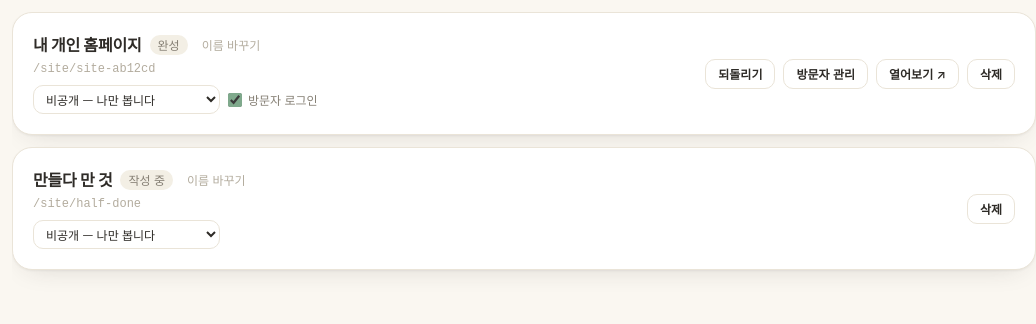
[P5-3] ProjectList — 공개범위 바꾸기 › 실패하면 원래 값으로 되돌리고 오류를 알린다
Select "누구나 봅니다 (검색에도 노출)" in the dropdown named "공개범위" next to "방문자 로그인" at x=126, y=100, box x1=33 y1=85 x2=220 y2=114
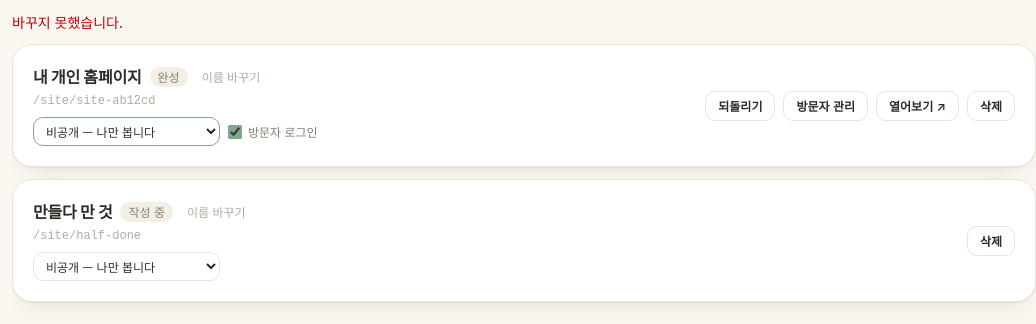
Check: the text "바꾸지 못했습니다." is shown, box x1=12 y1=12 x2=123 y2=32
